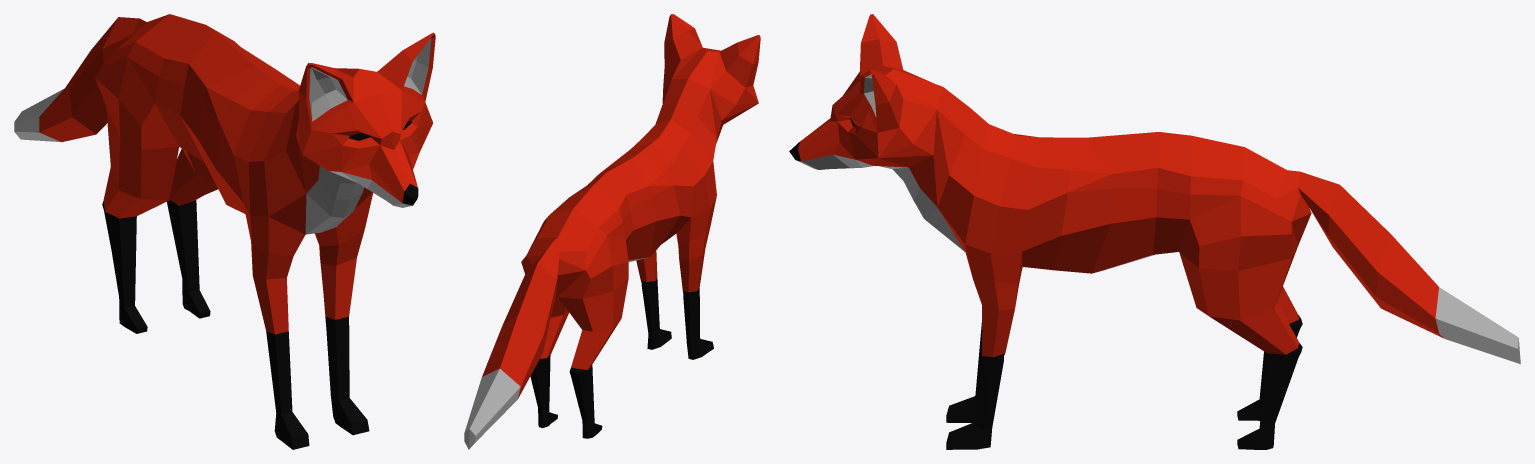
Rendered from fox.obj.
3 views of the same model, side by side, from view 1: azimuth 30°, elevation 25°; view 2: azimuth 150°, elevation 25°; view 3: azimuth 270°, elevation 25° (orthographic). The views are drawn at different scales.
Parts seen in each view (by area): view 1: Plane.001; view 2: Plane.001; view 3: Plane.001.
Boxes of the visible parts, bbox=[...] form: Plane.001: bbox=[14, 14, 435, 449]; Plane.001: bbox=[464, 14, 760, 449]; Plane.001: bbox=[789, 14, 1520, 449].
Size of the model in its own units: 0.3816 by 1.18 by 2.
